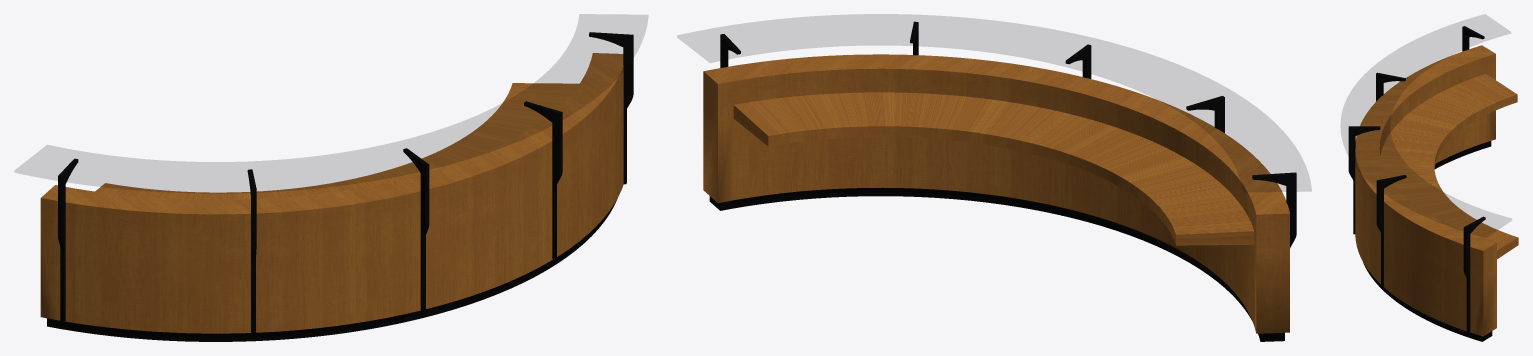
Rendered from ReceptionDesk.FBX.
3 renders of one model, left to right at view 1: azimuth 30°, elevation 25°; view 2: azimuth 150°, elevation 25°; view 3: azimuth 270°, elevation 25°, orthographic. The views are drawn at different scales.
Parts seen in each view (by area): view 1: ReceptionTable; view 2: ReceptionTable; view 3: ReceptionTable.
Part boxes in pixels (x1,y1,x2,y2): ReceptionTable: (15,14,647,341); ReceptionTable: (677,14,1311,341); ReceptionTable: (1341,15,1518,341).
Bounding box in the file's own units: 485 × 118 × 164.
Materials: 3 (1 with a texture image).
